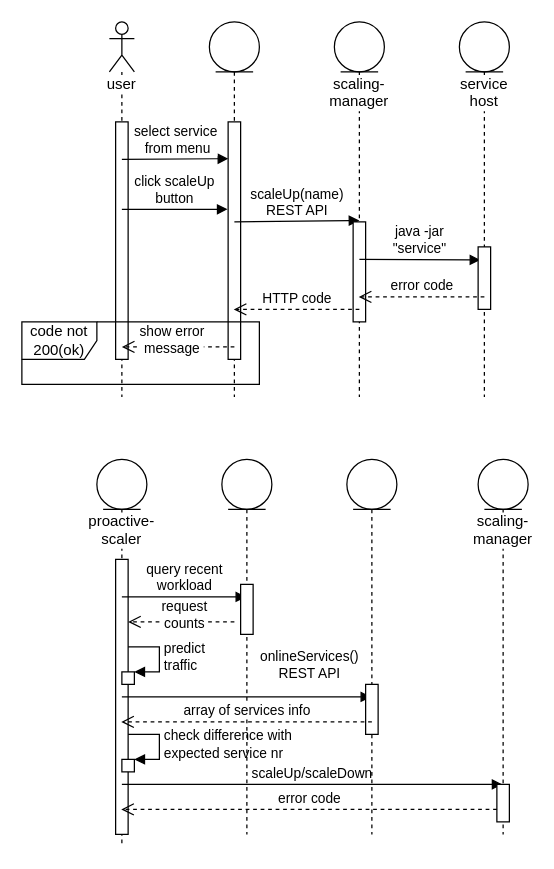
This 554x869 diagram has some shape labels left out. Each missing label, with the box of its shape:
dashboard: (208, 21, 259, 397)
database: (221, 458, 272, 834)
stats: (346, 458, 397, 834)
